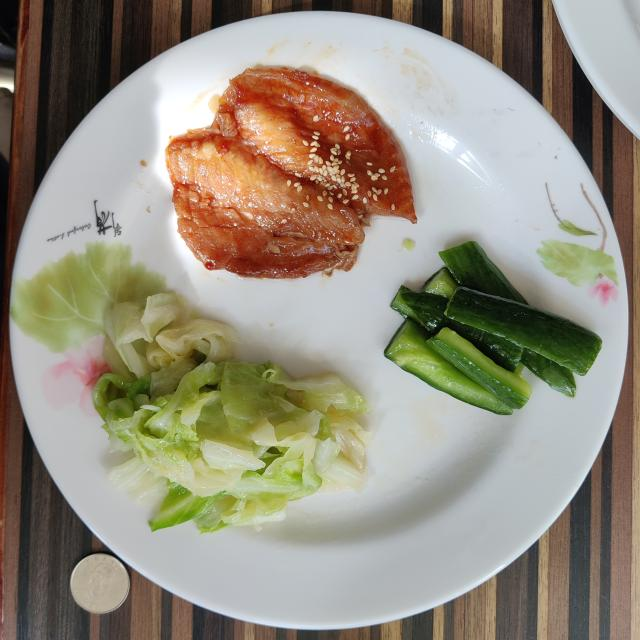Kabayaki sea bream fillet: (166, 69, 416, 279)
cabbage: (92, 292, 371, 532)
coin: (70, 554, 130, 614)
cucumber: (385, 241, 601, 415)
